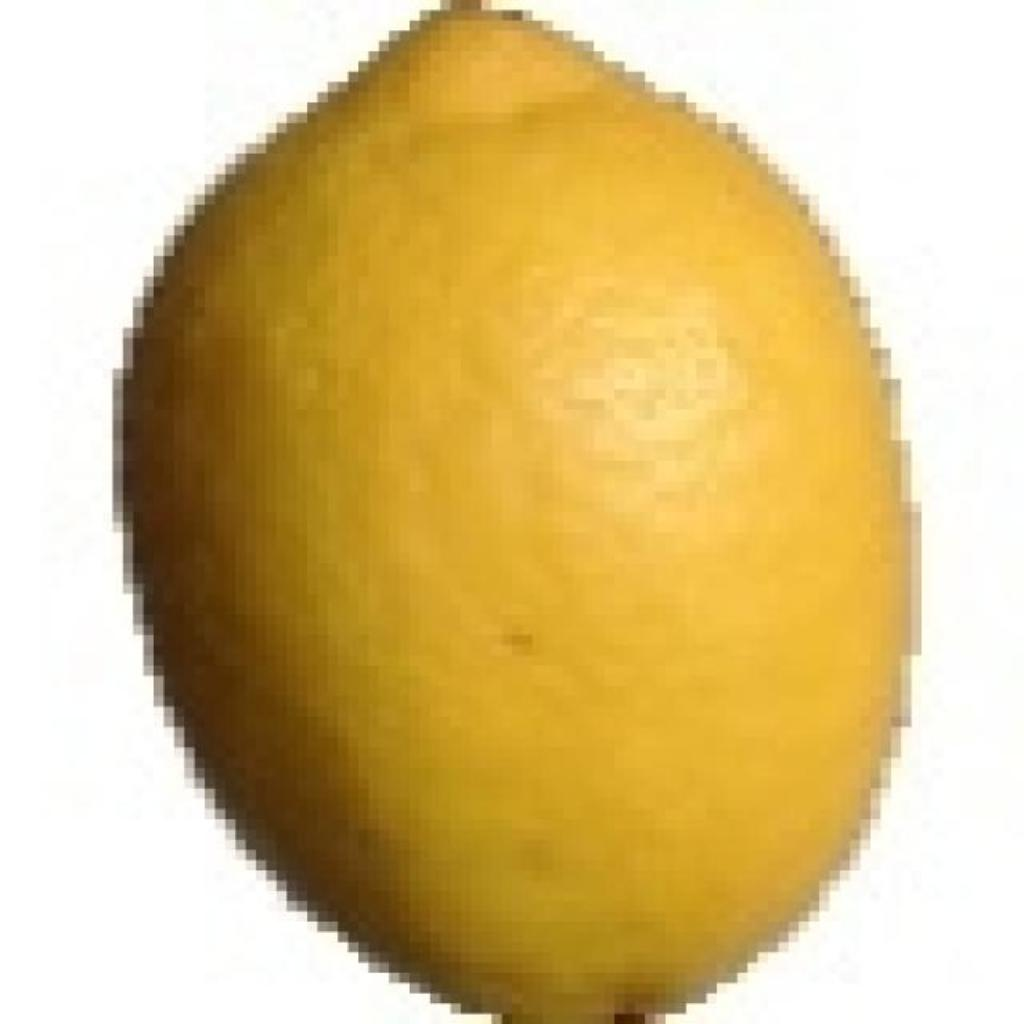lemon: (122, 0, 908, 1024)
